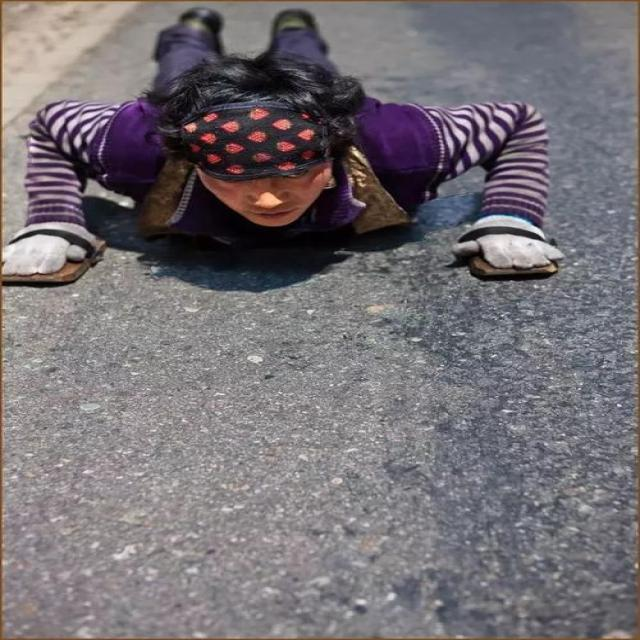down: (3, 4, 567, 291)
